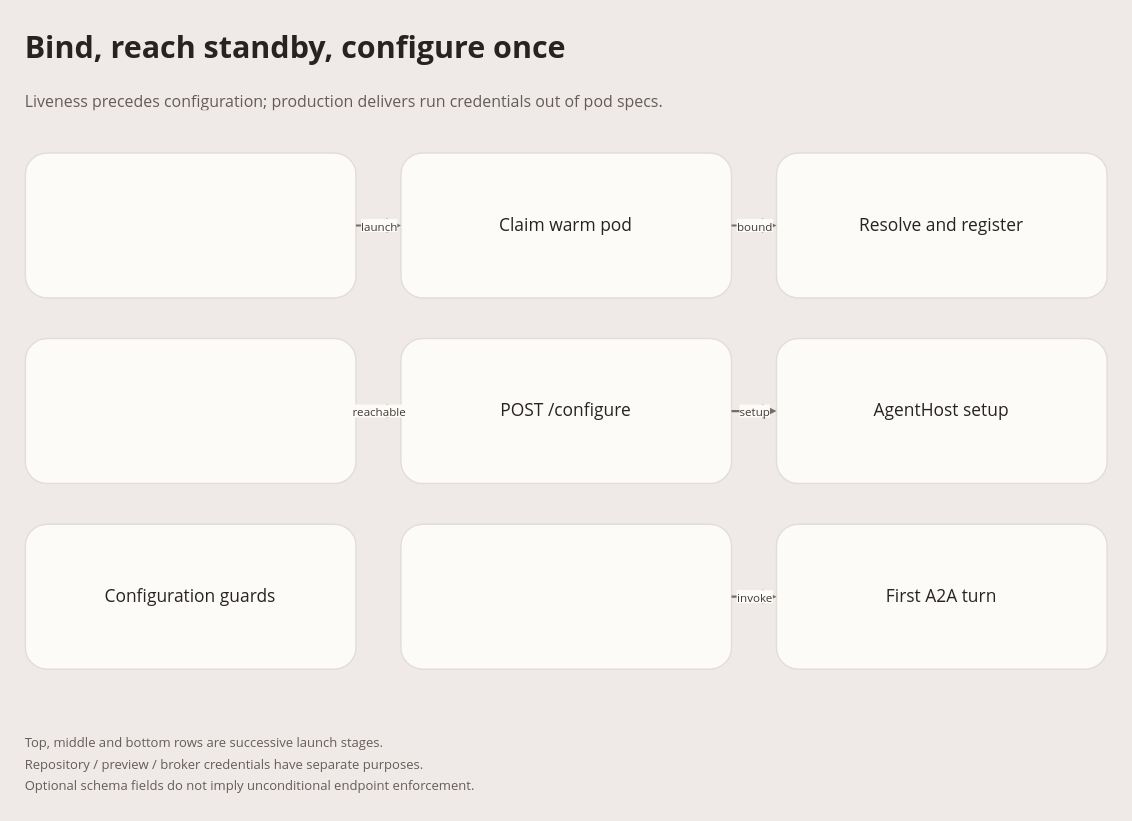
Image size: 1132x821. Some labels were removed from this diagram. Here are the shapes that lost their labels. From the top down, the centre of each, then its label:
At (190,225): "Prepare launch".
At (190,410): "GET /healthz".
At (565,596): "Register effective endpoint".
